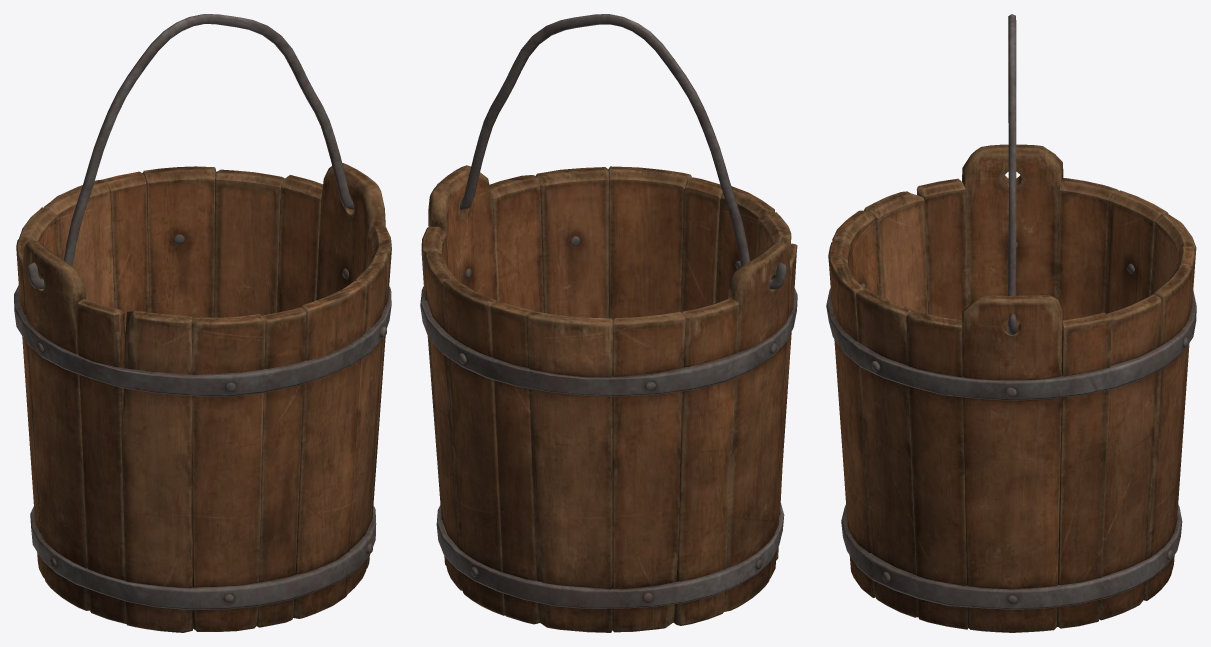
Rendered from wooden_bucket_01.glb.
3 views of the same model, side by side, from view 1: azimuth 30°, elevation 25°; view 2: azimuth 150°, elevation 25°; view 3: azimuth 270°, elevation 25° (orthographic).
Parts seen in each view (by area): view 1: wooden_bucket_01, wooden_bucket_01_handle; view 2: wooden_bucket_01, wooden_bucket_01_handle; view 3: wooden_bucket_01, wooden_bucket_01_handle.
Part boxes in pixels (box(x1,y1,x2,y2)): wooden_bucket_01: box(14, 163, 391, 632); wooden_bucket_01_handle: box(27, 14, 354, 289); wooden_bucket_01: box(420, 165, 797, 632); wooden_bucket_01_handle: box(437, 14, 786, 289); wooden_bucket_01: box(826, 144, 1196, 632); wooden_bucket_01_handle: box(1008, 14, 1016, 335).
Bounding box in the file's own units: 0.367 × 0.5499 × 0.3422.
1 material, 1 textured.
